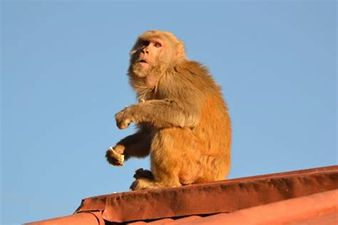monkey: (76, 19, 266, 182)
